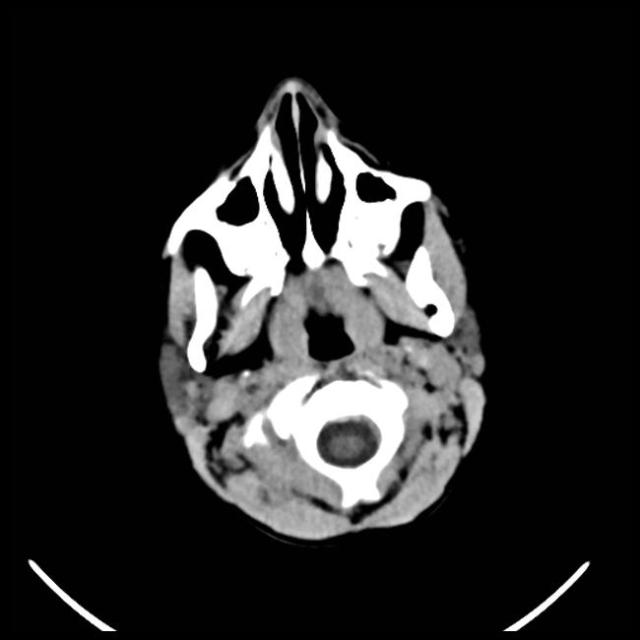lesion: (152, 73, 493, 546)
